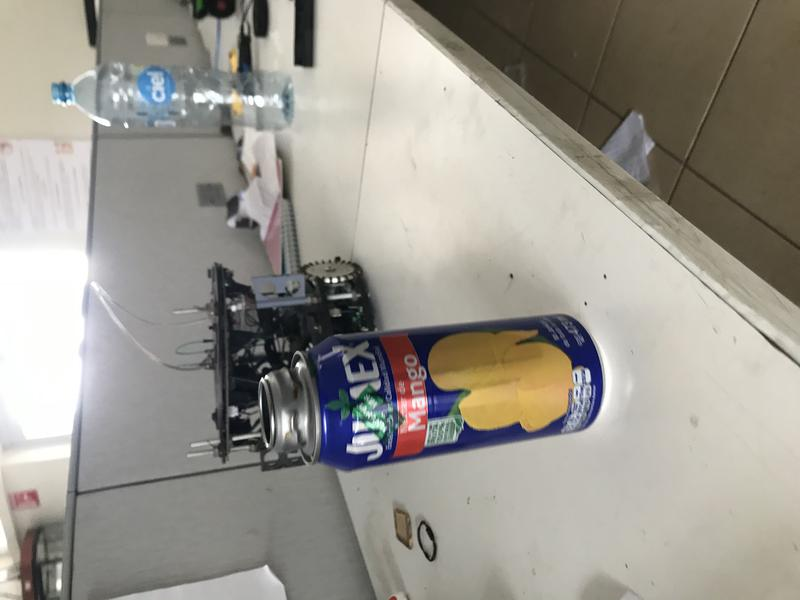jumex_botella: (257, 313, 605, 471)
